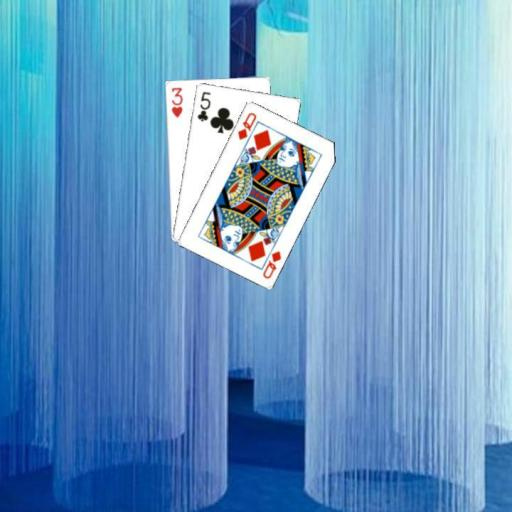3H: (169, 84, 184, 119)
5C: (194, 88, 212, 122)
QD: (235, 109, 258, 141), (260, 248, 283, 280)
